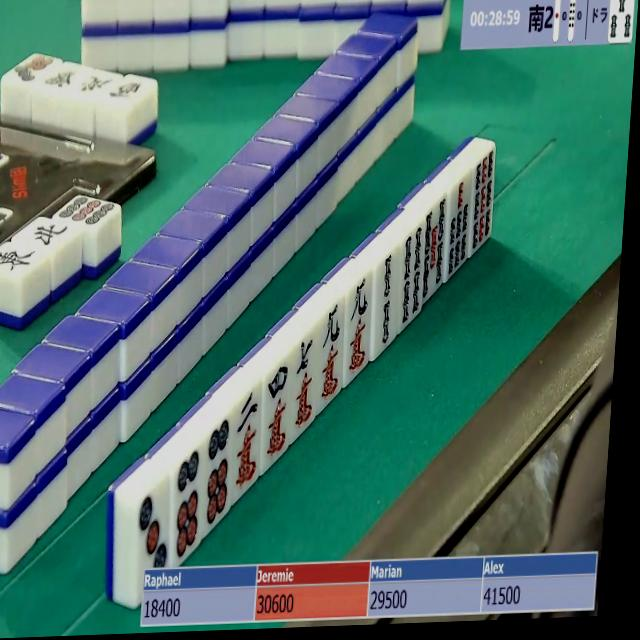m2: (234, 389, 263, 491)
m4: (259, 358, 298, 466)
m7: (291, 329, 322, 434)
m9: (344, 273, 378, 380), (317, 299, 348, 404)
s2: (373, 250, 404, 353)
s3: (609, 0, 635, 43)
s4: (396, 226, 428, 329)
s5: (421, 196, 448, 296)
s7: (446, 178, 472, 276)
s9: (468, 148, 497, 255)
t3: (134, 484, 174, 570)
t6: (167, 445, 202, 565), (203, 416, 234, 526)
